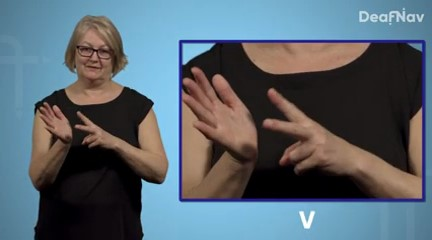V: (179, 63, 361, 184), (30, 101, 118, 154)
